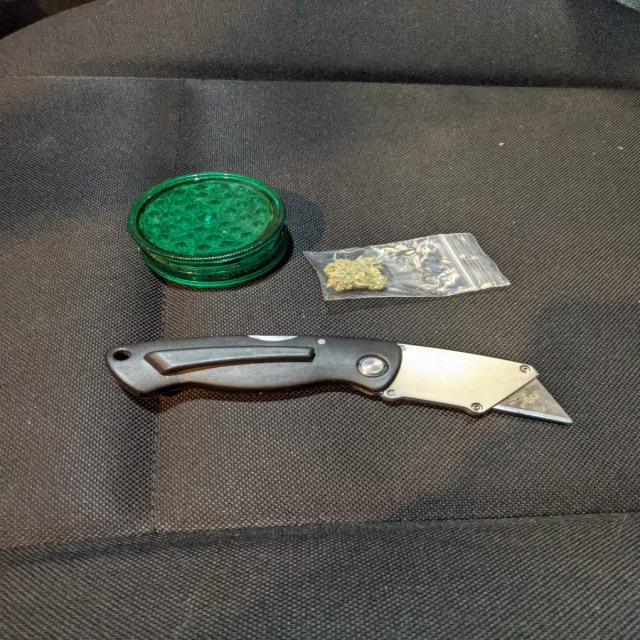Sharp-Object: (101, 334, 576, 428)
